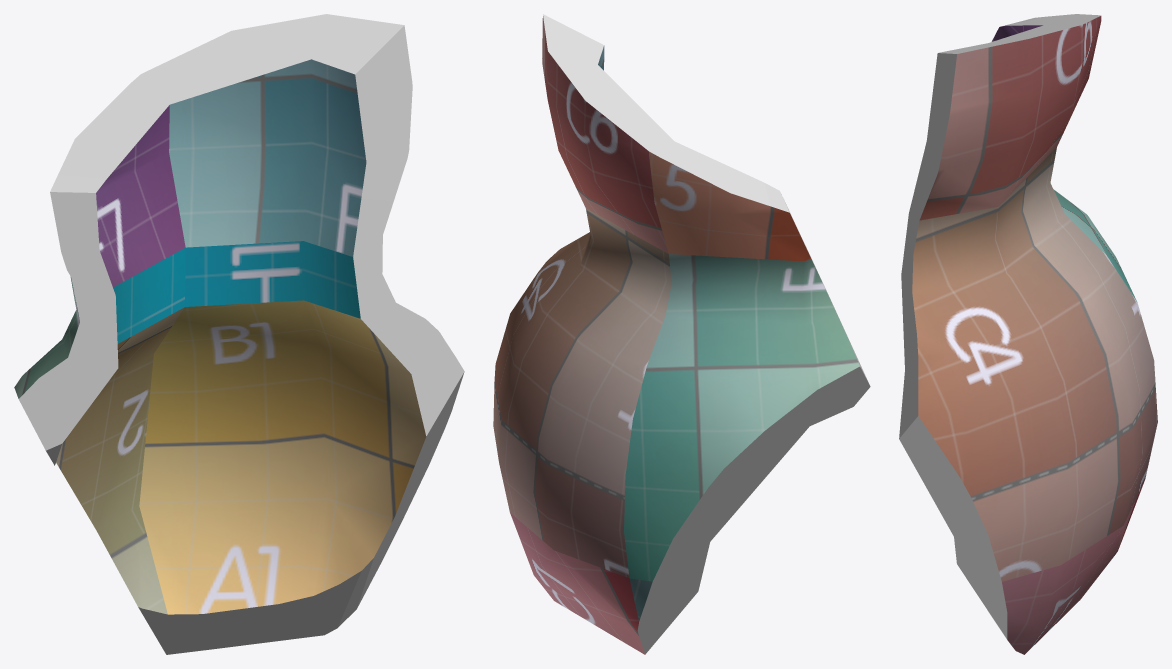
File: RoundVase_SHAT_cell_014.fbx
3 renders of one model, left to right at view 1: azimuth 30°, elevation 25°; view 2: azimuth 150°, elevation 25°; view 3: azimuth 270°, elevation 25°, orthographic. The views are drawn at different scales.
Visible parts, largest first — view 1: RoundVase_SHAT_cell_014; view 2: RoundVase_SHAT_cell_014; view 3: RoundVase_SHAT_cell_014.
Part boxes in pixels (x1=…): RoundVase_SHAT_cell_014: x1=14, y1=14, x2=464, y2=654; RoundVase_SHAT_cell_014: x1=493, y1=14, x2=870, y2=654; RoundVase_SHAT_cell_014: x1=899, y1=14, x2=1157, y2=654.
Size of the model in its own units: 0.7926 by 1.14 by 0.4237.
Materials: 2 (1 with a texture image).
